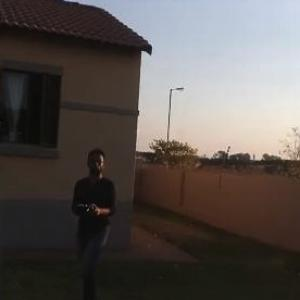follow: (65, 144, 120, 299)
